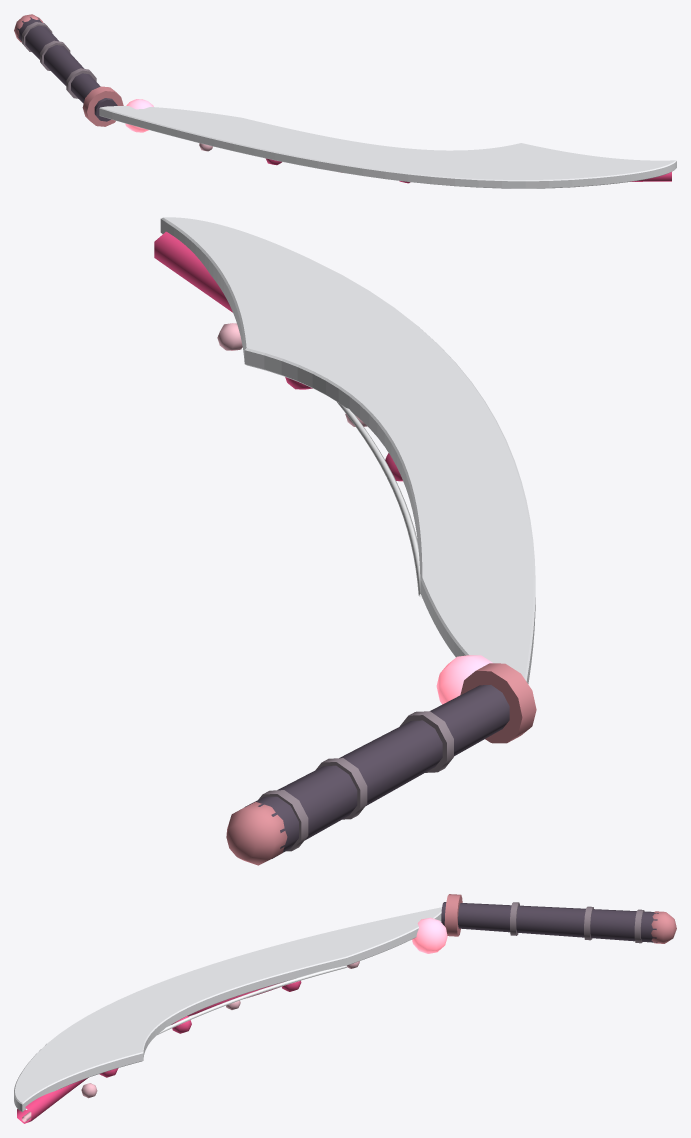
File: veyr_right.glb
The picture shows the model from 3 angles, top to bottom: view 1: azimuth 30°, elevation 25°; view 2: azimuth 150°, elevation 25°; view 3: azimuth 270°, elevation 25°; orthographic projection. The views are drawn at different scales.
Parts seen in each view (by area): view 1: veyr_right; view 2: veyr_right; view 3: veyr_right.
Part boxes in pixels (left/top/right/bottom): veyr_right: left=14, top=14, right=676, bottom=188; veyr_right: left=154, top=217, right=536, bottom=865; veyr_right: left=14, top=894, right=676, bottom=1123.
Size of the model in its own units: 0.7022 by 0.075 by 0.9734.
